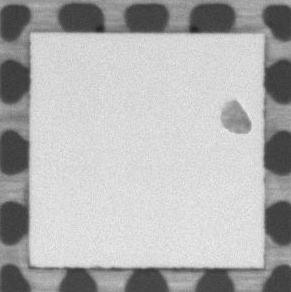DIE_INK: (214, 94, 254, 138)
